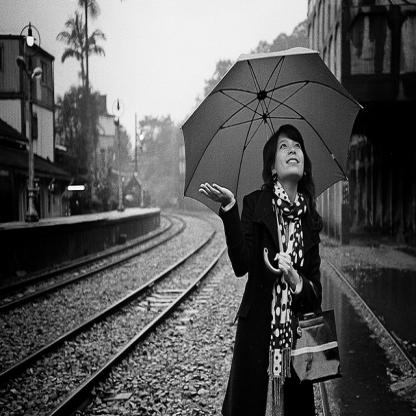handbag: (293, 283, 339, 389)
